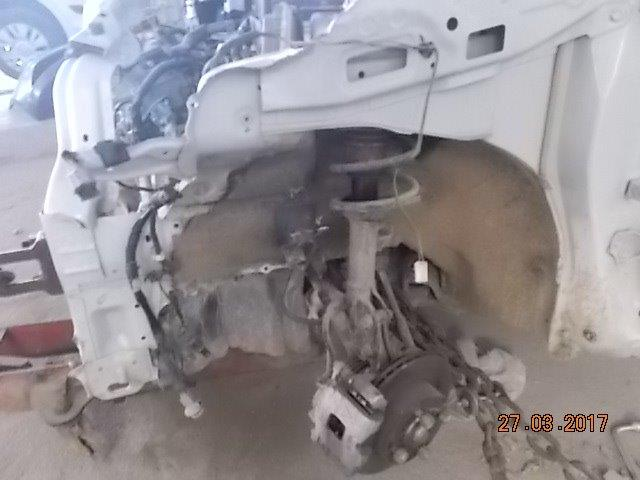Large_tear_or_damage: (37, 67, 613, 391)
